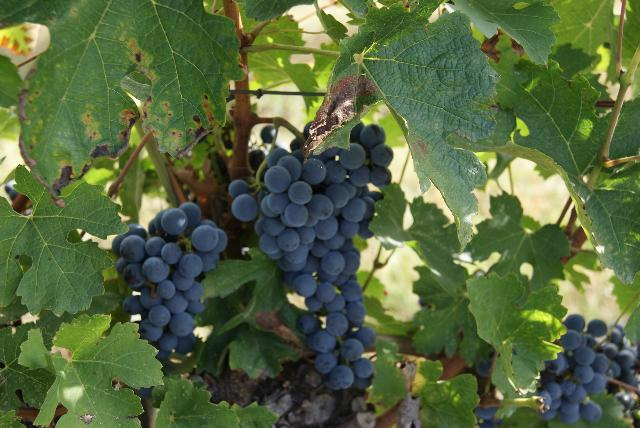grapes: (229, 125, 392, 390), (112, 201, 228, 359)
